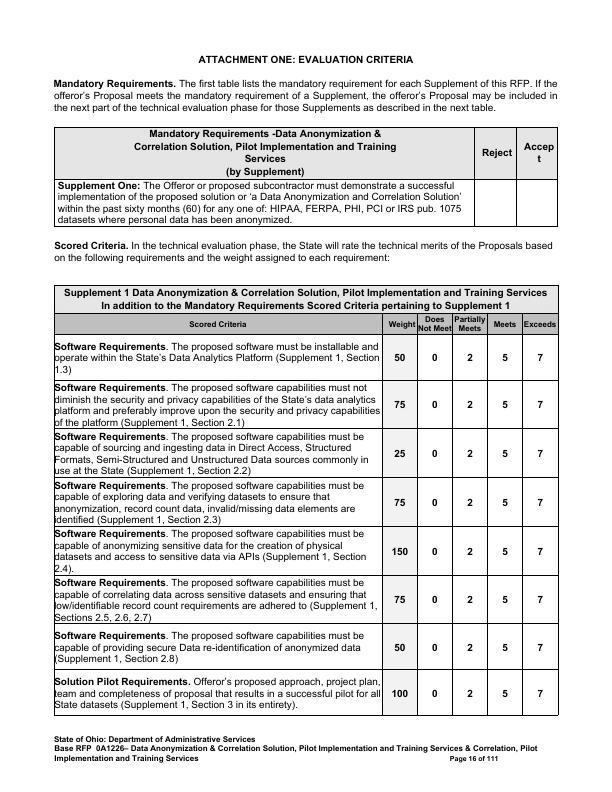table: (51, 280, 563, 720), (50, 124, 562, 231)
text: (50, 75, 562, 114), (45, 733, 546, 771), (50, 237, 558, 265), (195, 50, 418, 66)
